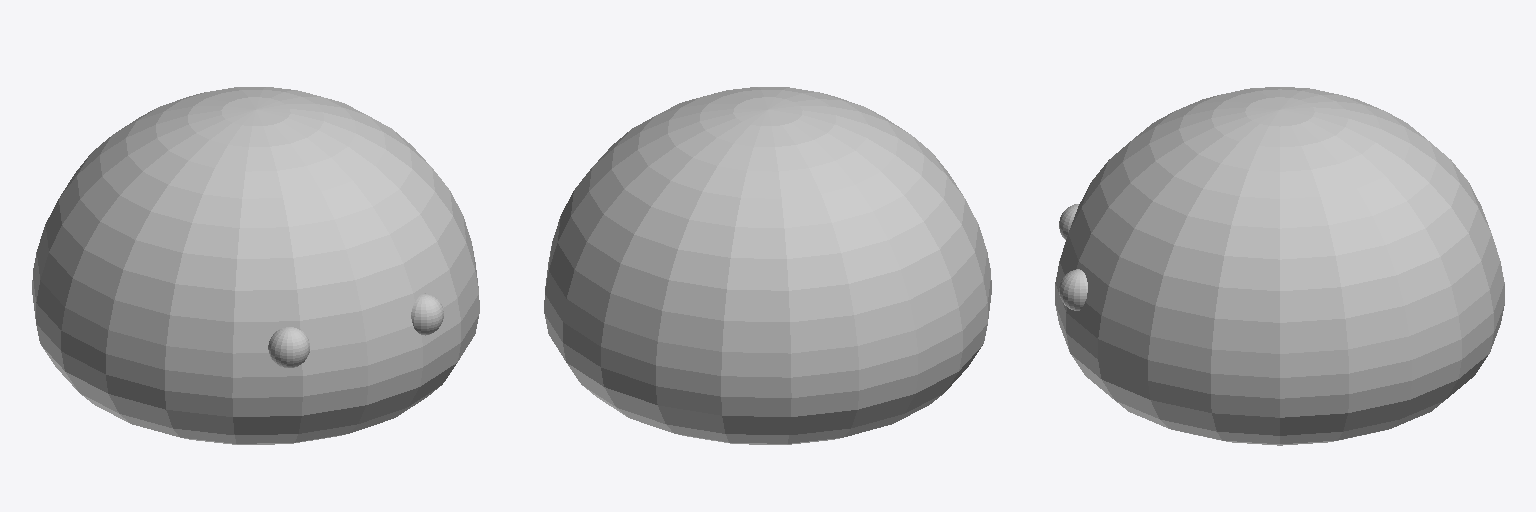
Rendered from momo_face.obj.
The picture shows the model from 3 angles: view 1: azimuth 30°, elevation 25°; view 2: azimuth 150°, elevation 25°; view 3: azimuth 270°, elevation 25°; orthographic projection.
Visible parts, largest first — view 1: pSphere1, pSphere4, pSphere5; view 2: pSphere1; view 3: pSphere1, pSphere5.
Part boxes in pixels (x1,y1,x2,y2): pSphere1: (32, 87, 479, 444); pSphere4: (268, 327, 309, 367); pSphere5: (411, 293, 443, 335); pSphere1: (544, 87, 991, 444); pSphere1: (1055, 87, 1504, 445); pSphere5: (1059, 269, 1087, 310).
Size of the model in its own units: 2.34 by 1.68 by 2.34.